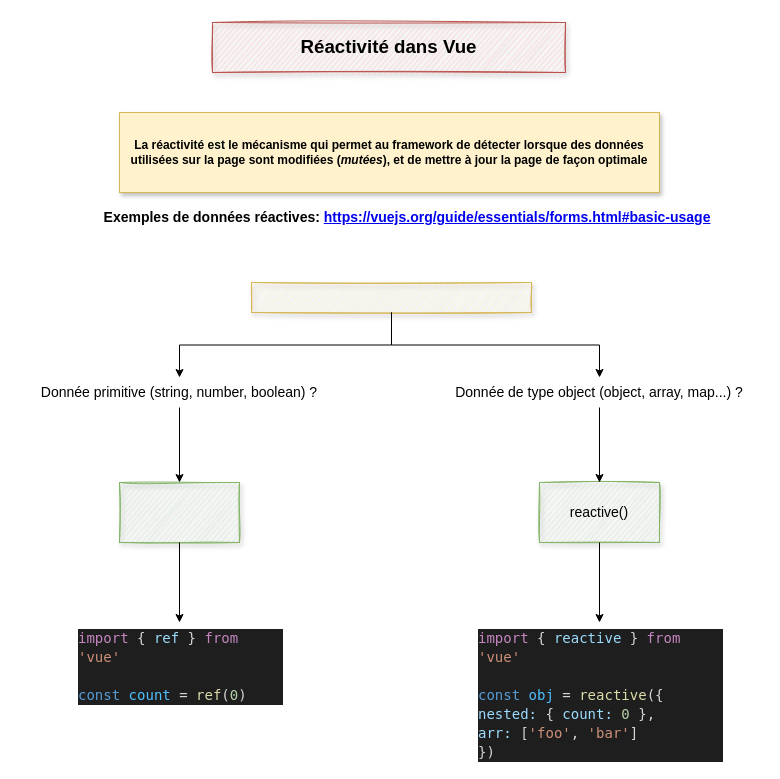
Image size: 780x779. Some labels were removed from this diagram. Here are the shapes that lost their labels. From the top down, the centre of each, then its label:
point 392,299: Rendre une donnée réactive
point 180,514: ref()
